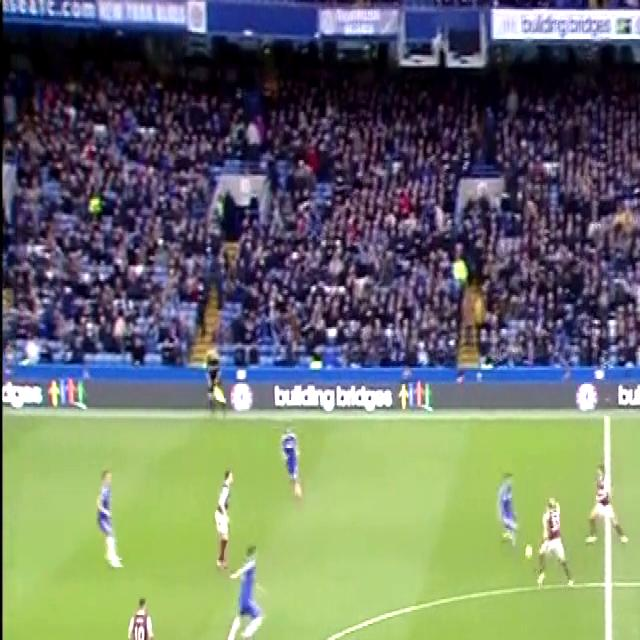ball: (521, 535, 537, 569)
referee: (199, 334, 231, 423)
soccer-player: (526, 494, 578, 593), (220, 535, 269, 640), (91, 459, 128, 579), (583, 456, 628, 553), (208, 456, 239, 580), (271, 412, 305, 511), (490, 460, 519, 551), (124, 585, 165, 640)
